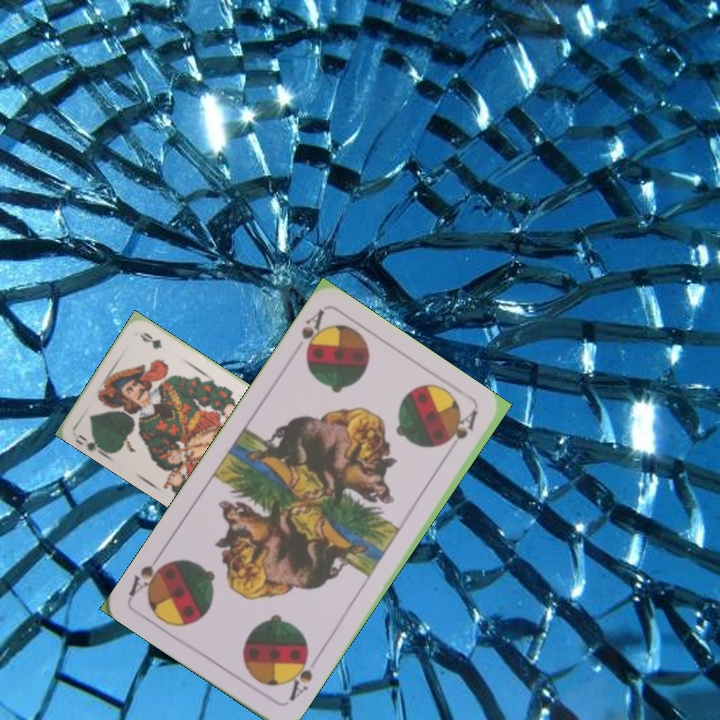GO: (75, 430, 108, 458)
SA: (283, 647, 321, 704), (297, 305, 331, 363)
